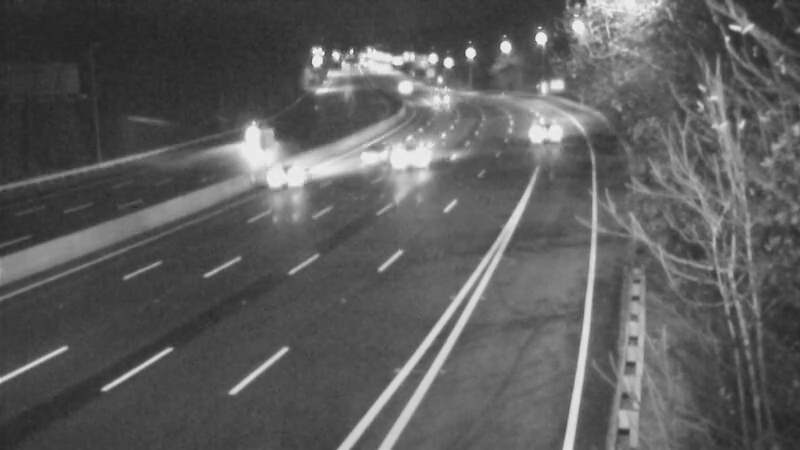vehicle: (378, 113, 458, 193), (337, 115, 417, 195), (256, 135, 336, 215), (376, 62, 426, 112), (416, 70, 466, 120), (522, 102, 572, 152), (222, 114, 272, 164)
